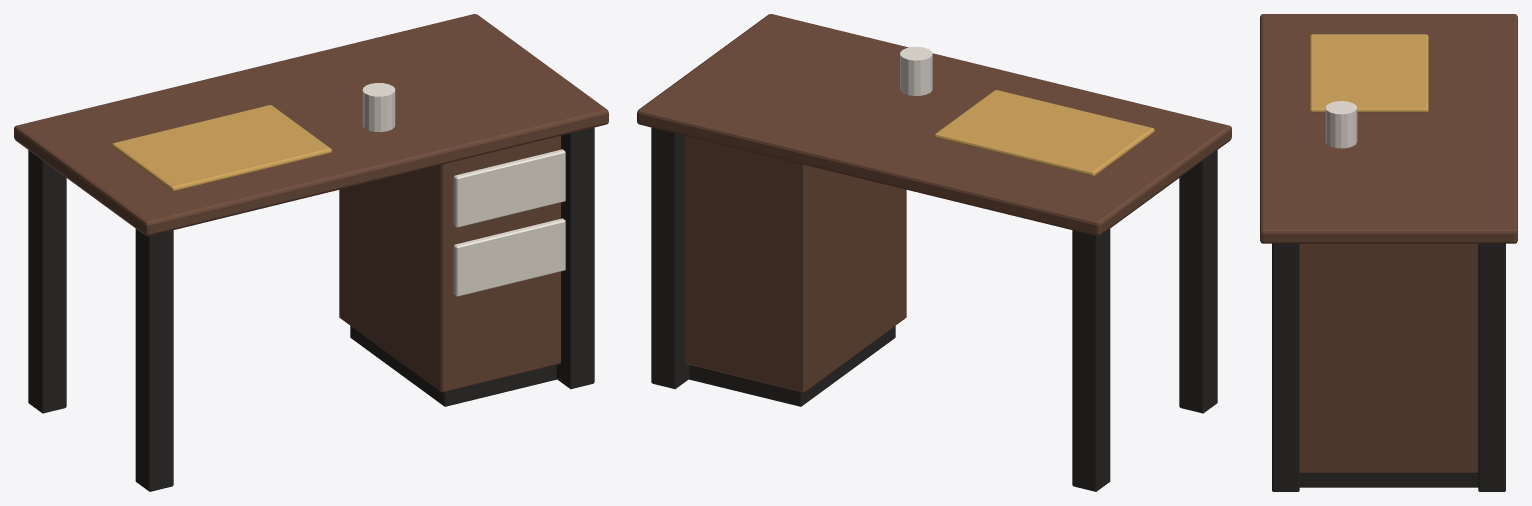
Rendered from desk.glb.
3 views of the same model, side by side, from view 1: azimuth 30°, elevation 25°; view 2: azimuth 150°, elevation 25°; view 3: azimuth 270°, elevation 25° (orthographic). The views are drawn at different scales.
Parts seen in each view (by area): view 1: desk; view 2: desk; view 3: desk.
Part boxes in pixels (x1,y1,x2,y2): desk: [14, 14, 608, 491]; desk: [637, 14, 1231, 491]; desk: [1260, 14, 1517, 491].
Bounding box in the file's own units: 1.3 × 0.835 × 0.65.
